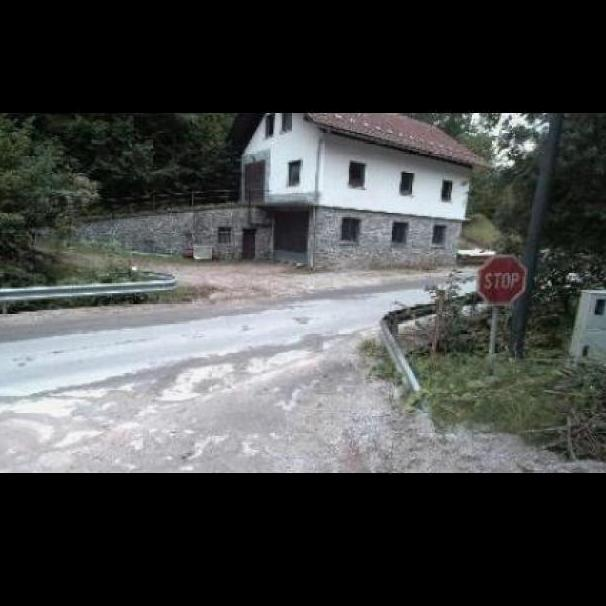stop_sign: (476, 256, 528, 304)
